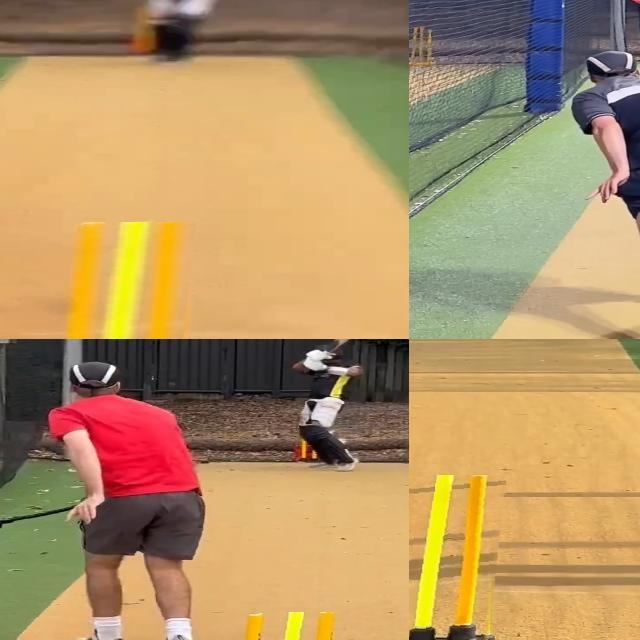Stumps: (409, 474, 508, 640), (66, 221, 197, 339)
